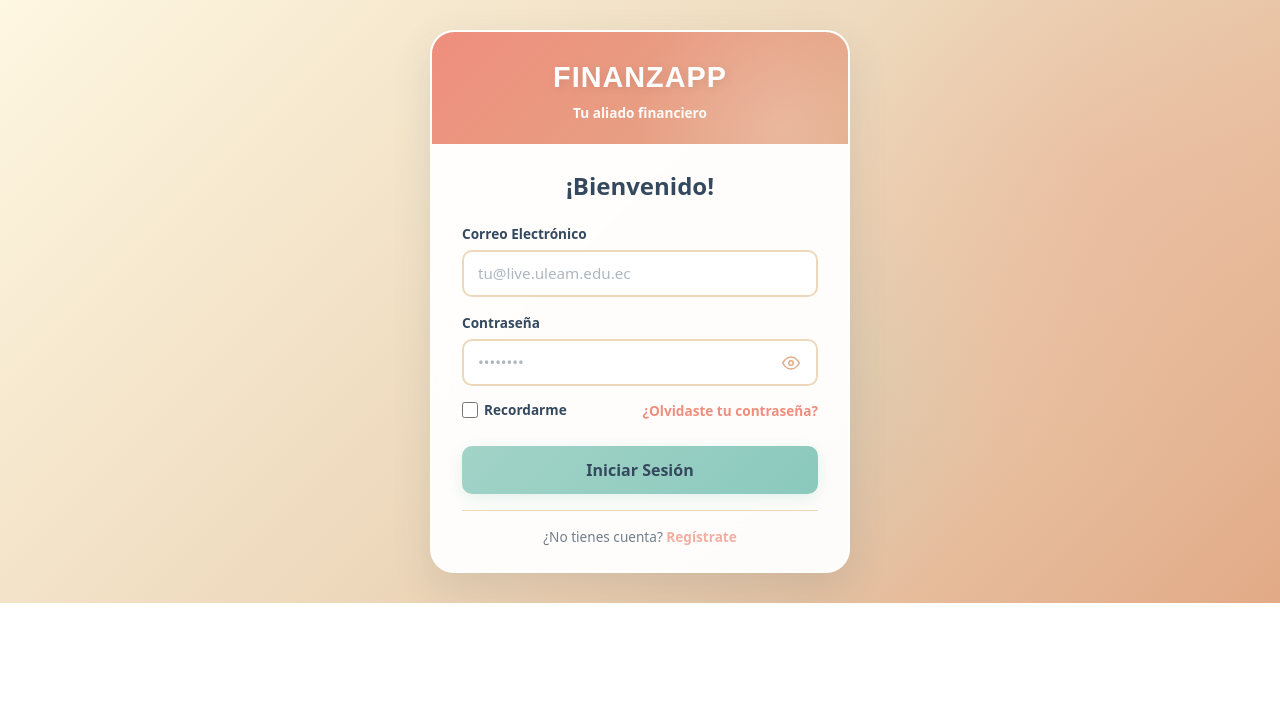
Scenario: Login.vue › Muestra error cuando el dominio del email no es válido
In the field labelled "Correo Electrónico": (640, 273) [462,250,818,297], type "test@gmail.com"
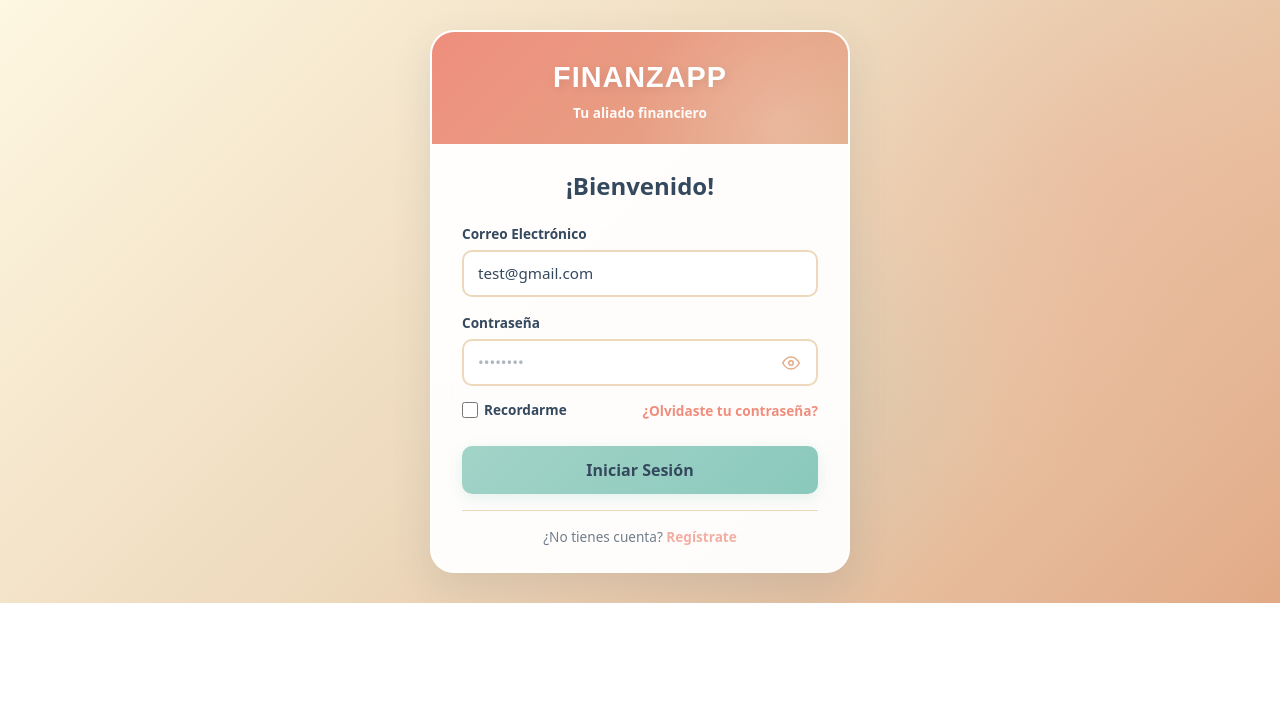
In the password field labelled "Contraseña": (640, 362) [462,339,818,386], type "password123"
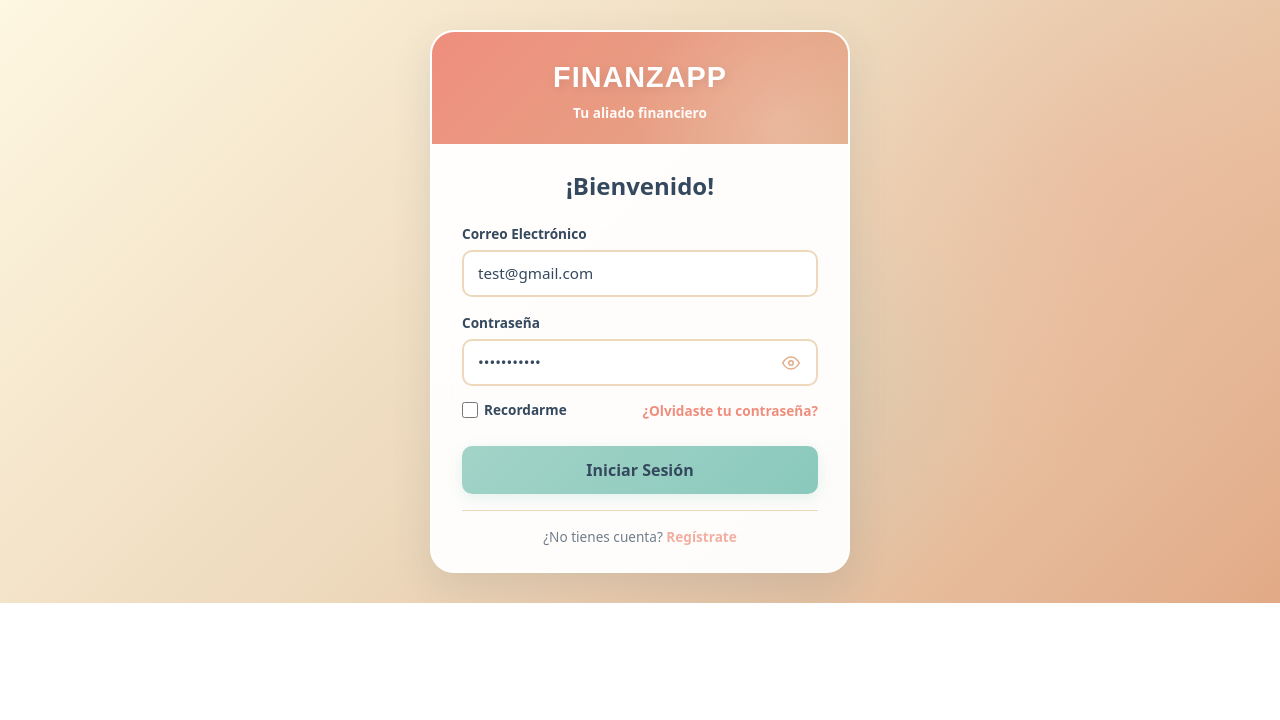
Submit the form, box [462,224,818,494]
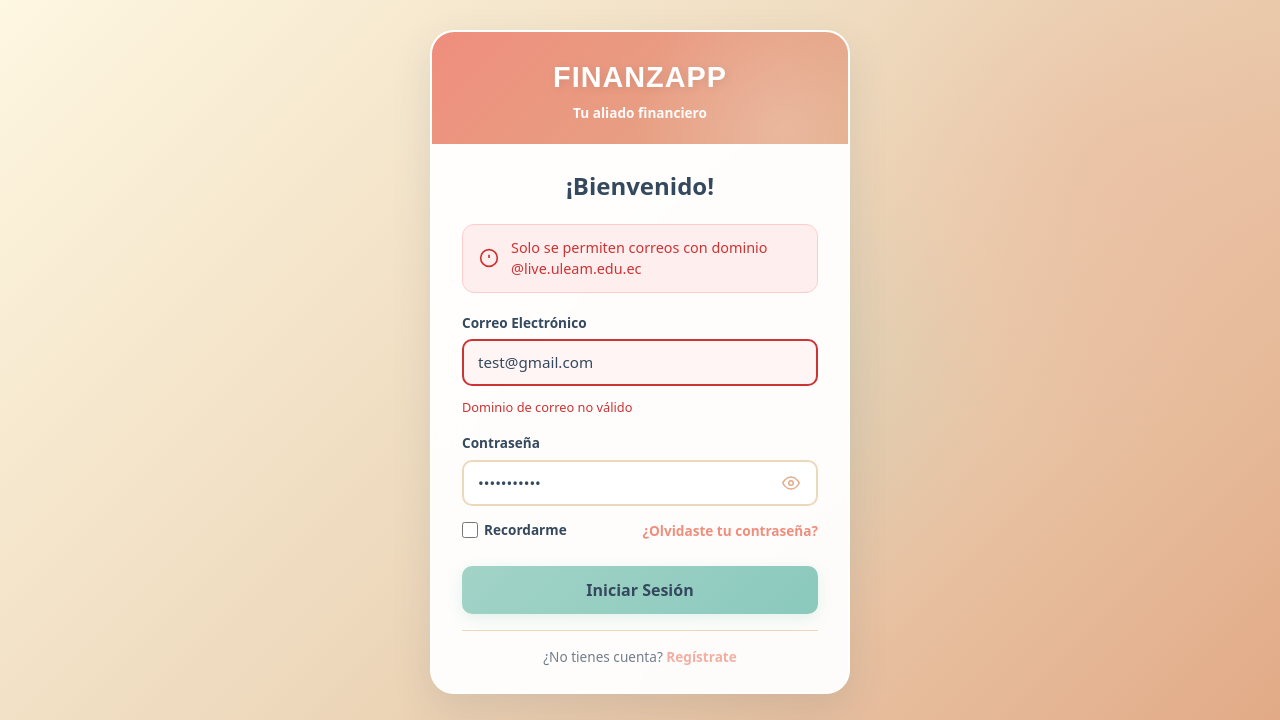
Expected: the text "@live.uleam.edu.ec" is shown, [511,238,768,278]
